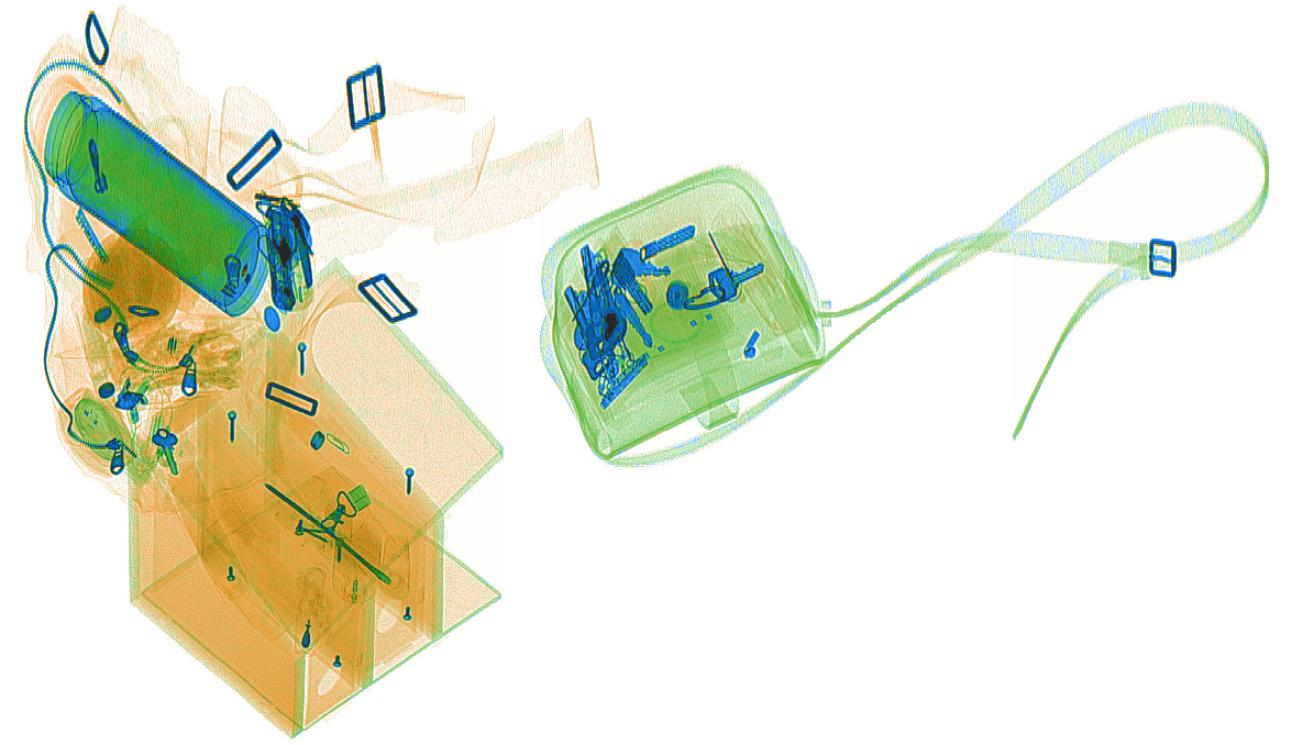plasticBottleWithaNozzle: (328, 516, 383, 634)
